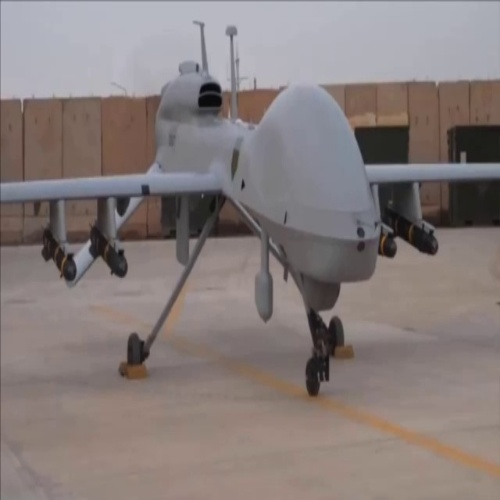uav821: (1, 19, 498, 402)
